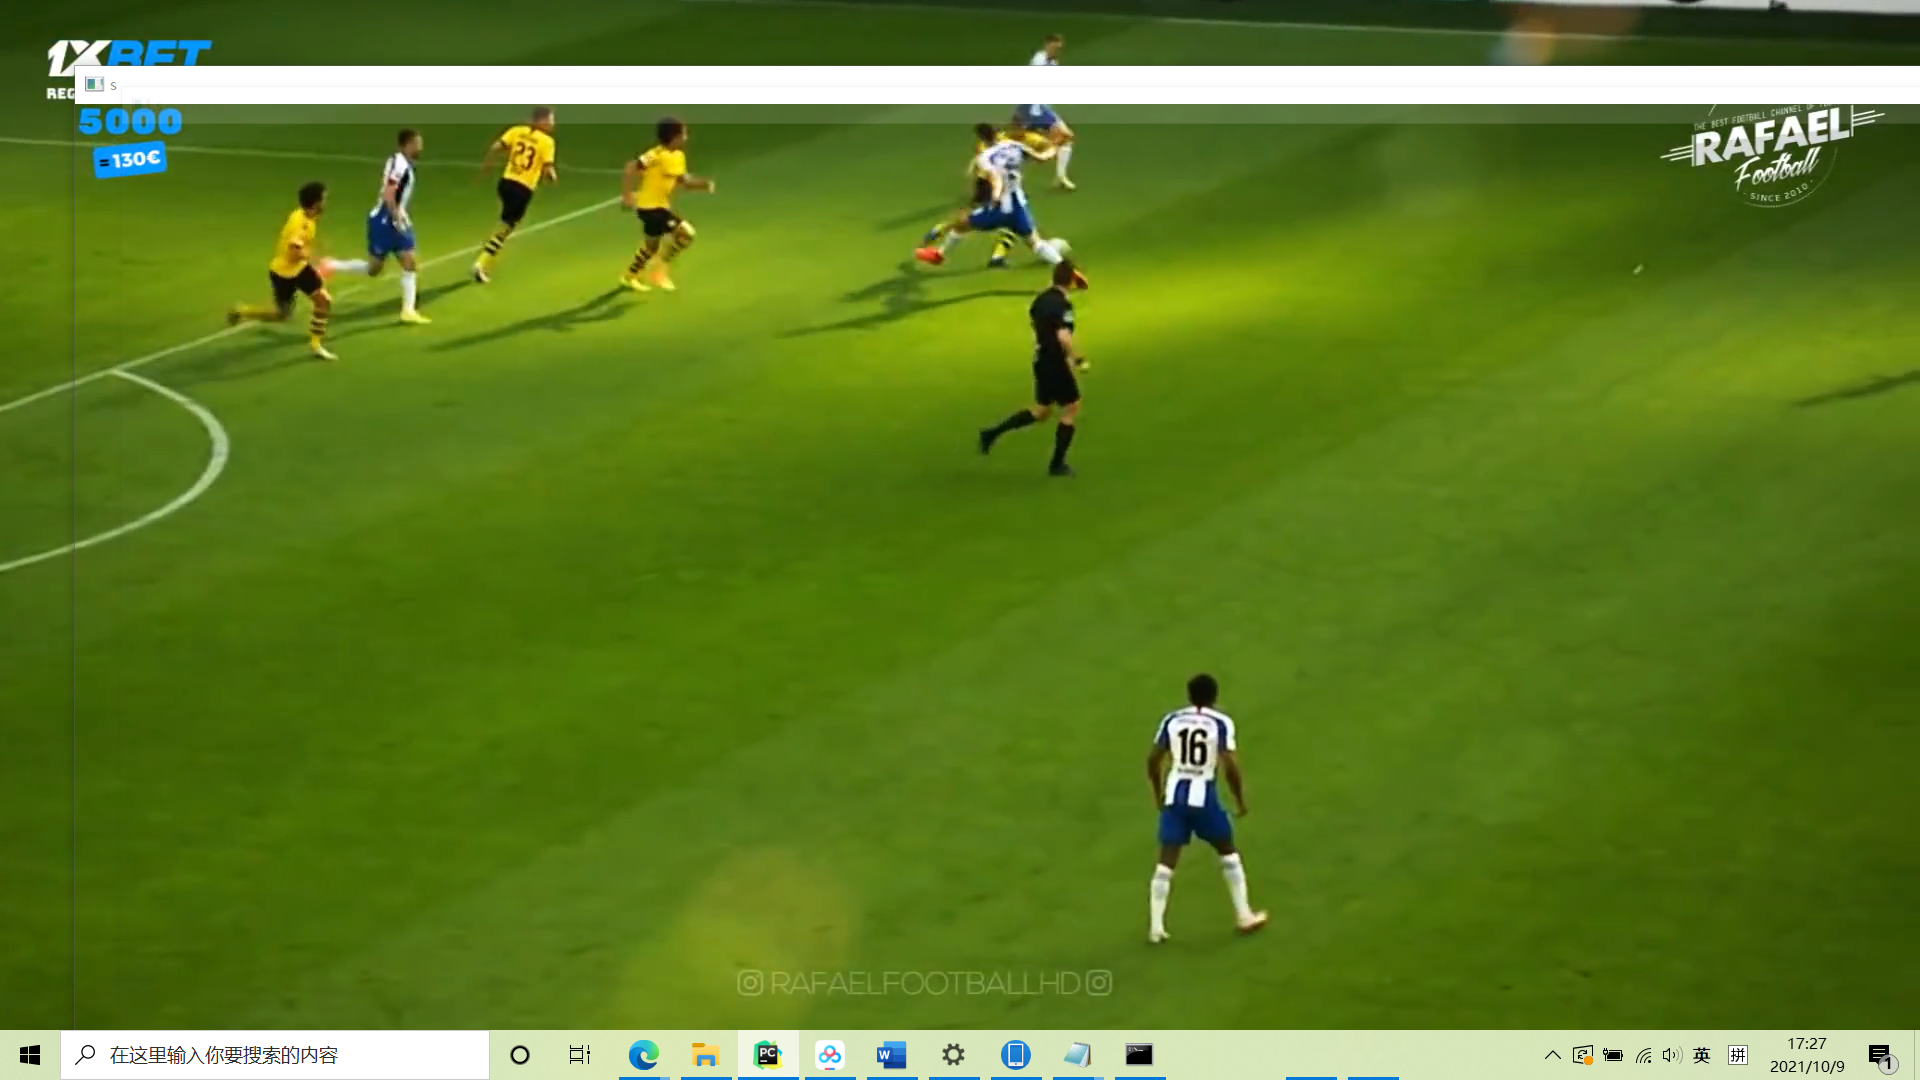ft: (1048, 237, 1073, 258)
